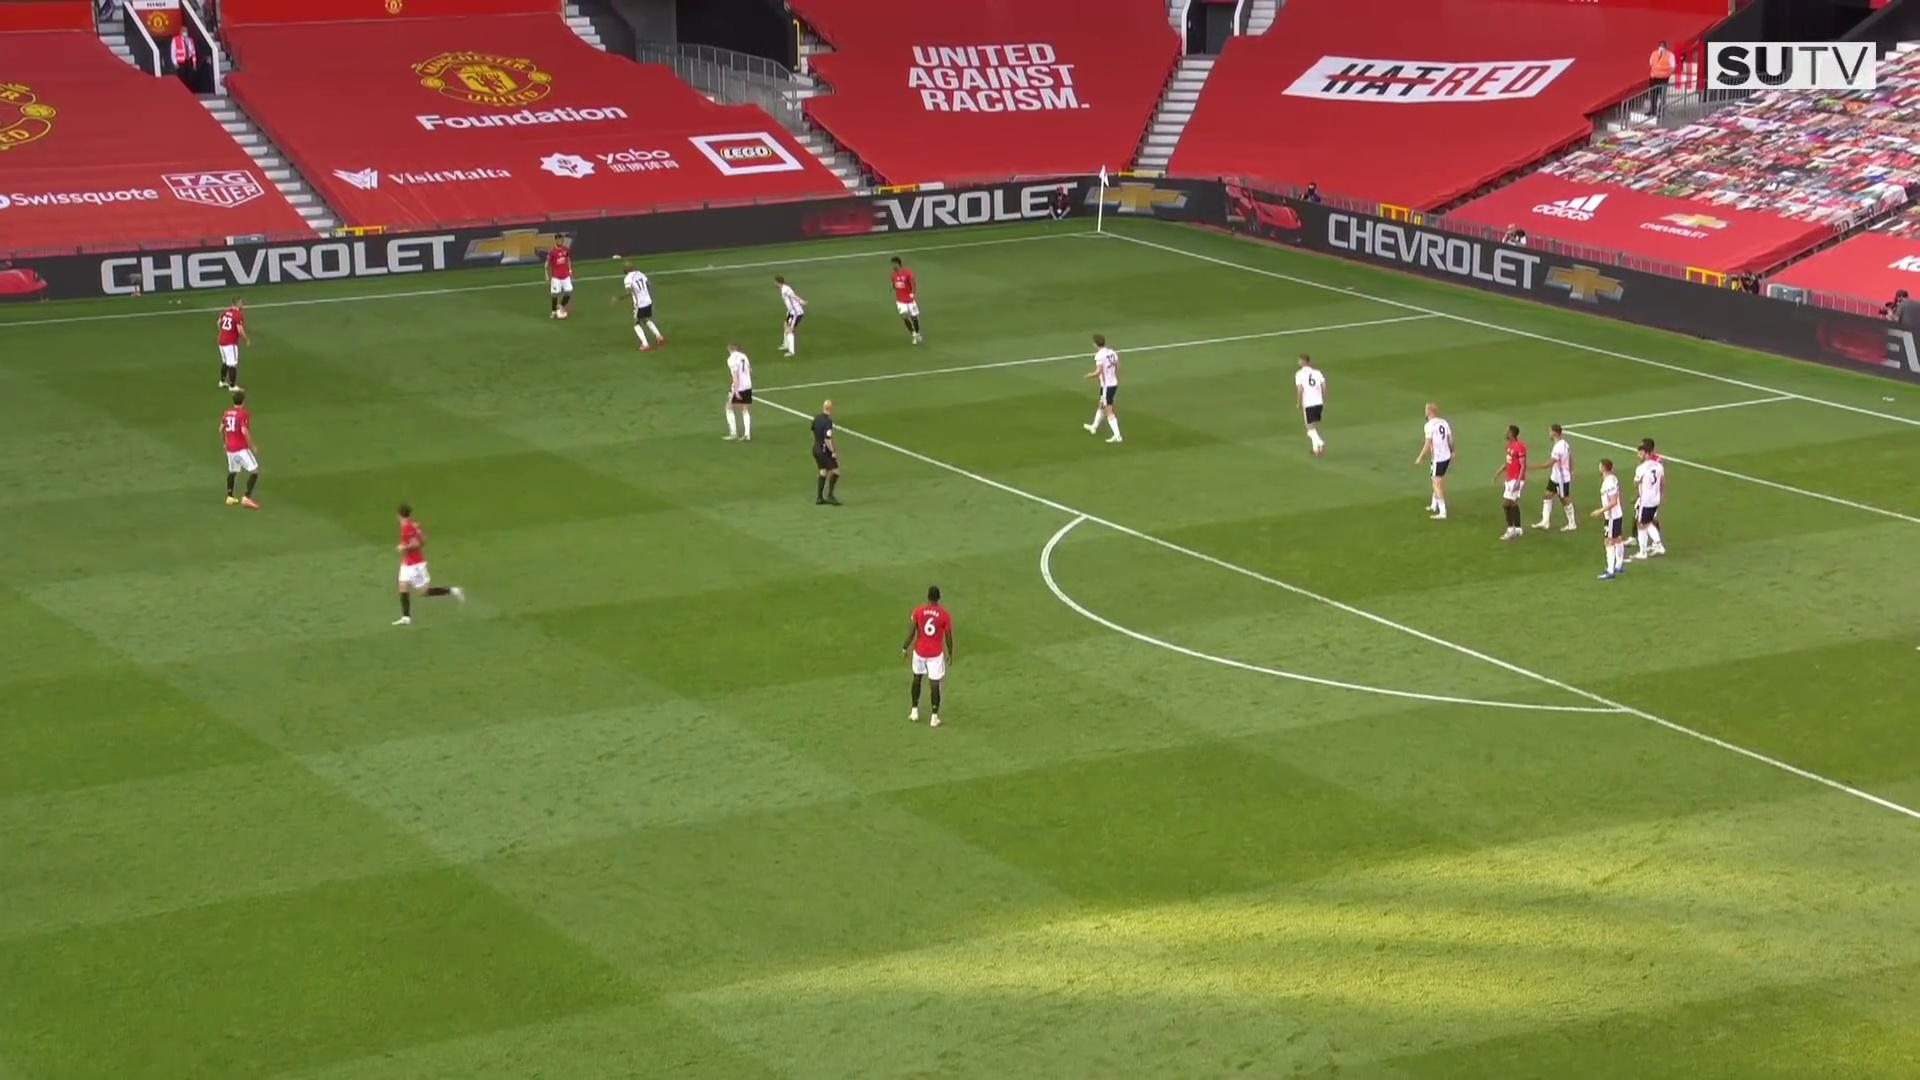ball: (554, 306, 570, 320)
player: (388, 501, 467, 628), (896, 584, 959, 731), (215, 390, 266, 512), (1413, 399, 1462, 521), (1085, 331, 1134, 448), (616, 257, 669, 355), (1599, 458, 1639, 586), (1620, 435, 1665, 548), (1493, 420, 1534, 541), (1536, 421, 1578, 536), (717, 335, 759, 446), (1291, 350, 1334, 458), (209, 294, 254, 396), (1628, 446, 1667, 559), (883, 254, 927, 351), (542, 233, 583, 325), (772, 275, 812, 361)
referee: (808, 396, 851, 509)
